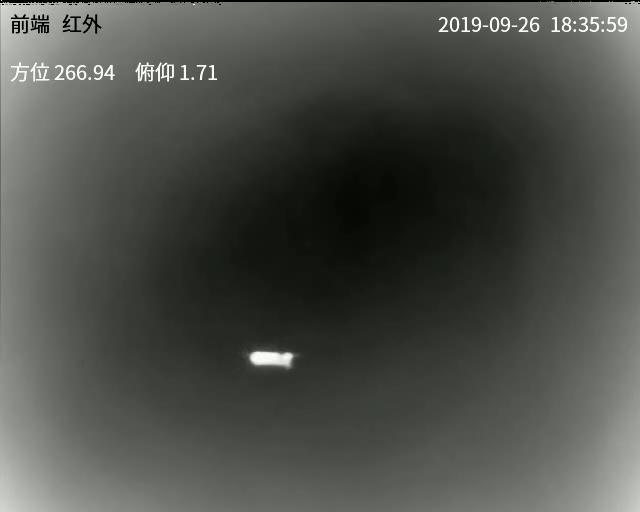uav: (241, 345, 296, 375)
